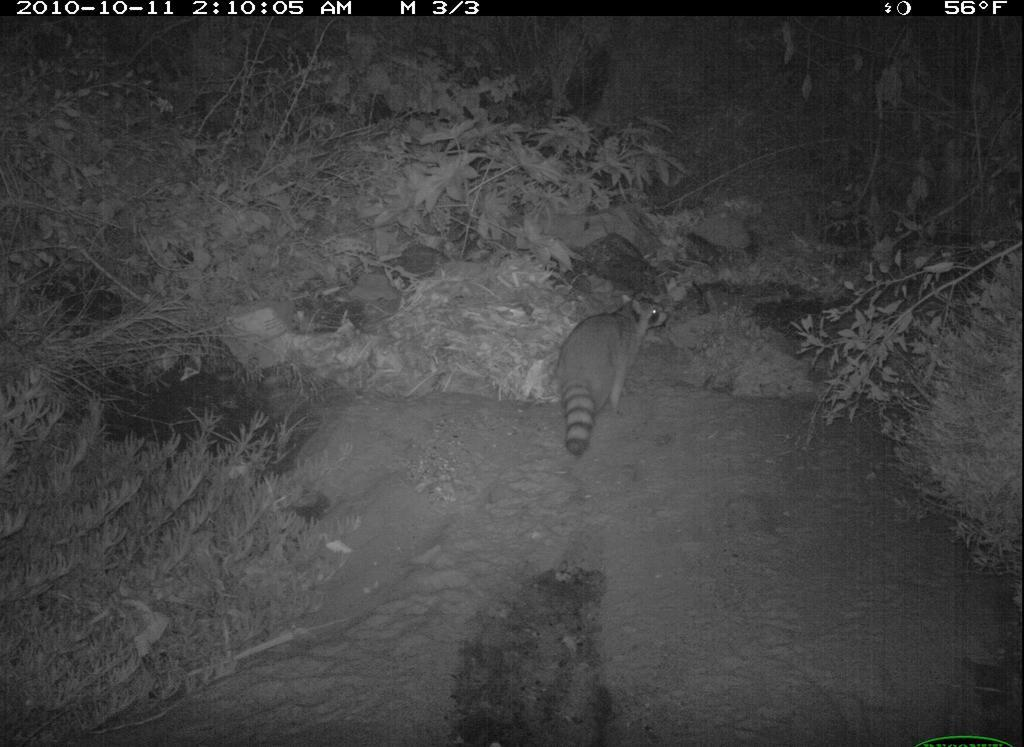raccoon: (547, 290, 685, 461)
